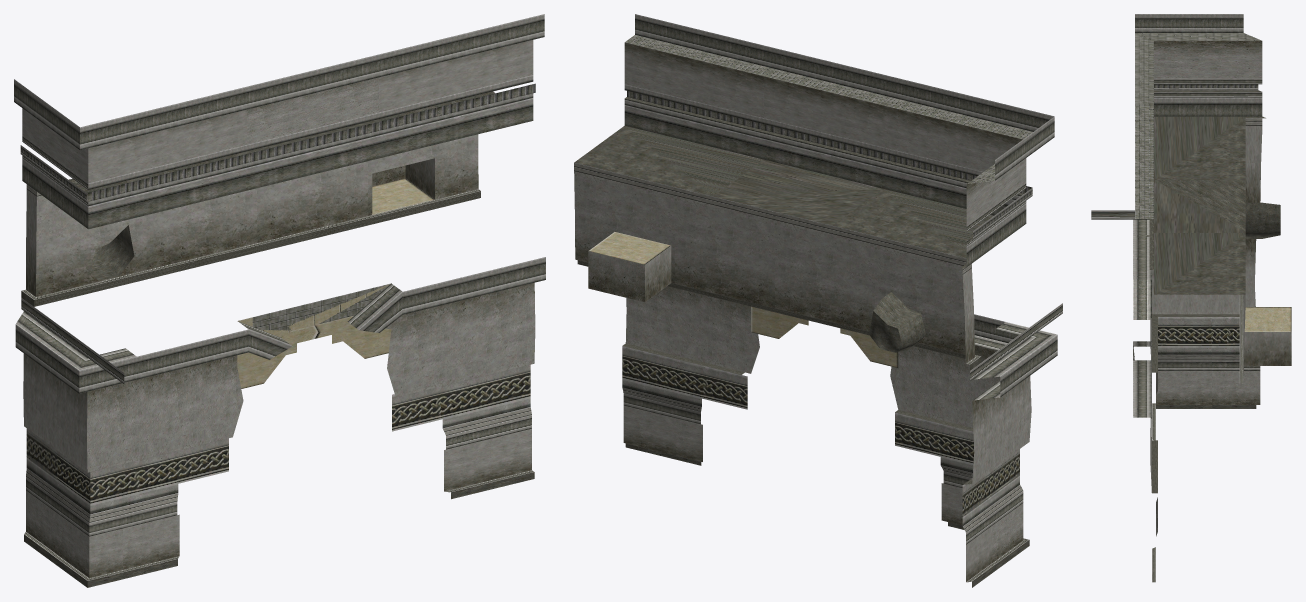
The model's file is DWARF_PALACE_MAINHALL_WALL02B.fbx.
3 renders of one model, left to right at view 1: azimuth 30°, elevation 25°; view 2: azimuth 150°, elevation 25°; view 3: azimuth 270°, elevation 25°, orthographic. The views are drawn at different scales.
Visible parts, largest first — view 1: DWARF_PALACE_MAINHALL_WALL02B; view 2: DWARF_PALACE_MAINHALL_WALL02B; view 3: DWARF_PALACE_MAINHALL_WALL02B.
Part boxes in pixels (box(x1,y1,x2,y2)): DWARF_PALACE_MAINHALL_WALL02B: box(14, 14, 545, 587); DWARF_PALACE_MAINHALL_WALL02B: box(574, 14, 1062, 587); DWARF_PALACE_MAINHALL_WALL02B: box(1091, 14, 1291, 582).
Size of the model in its own units: 212004 by 205000 by 95978.
Materials: 10 (10 with a texture image).
